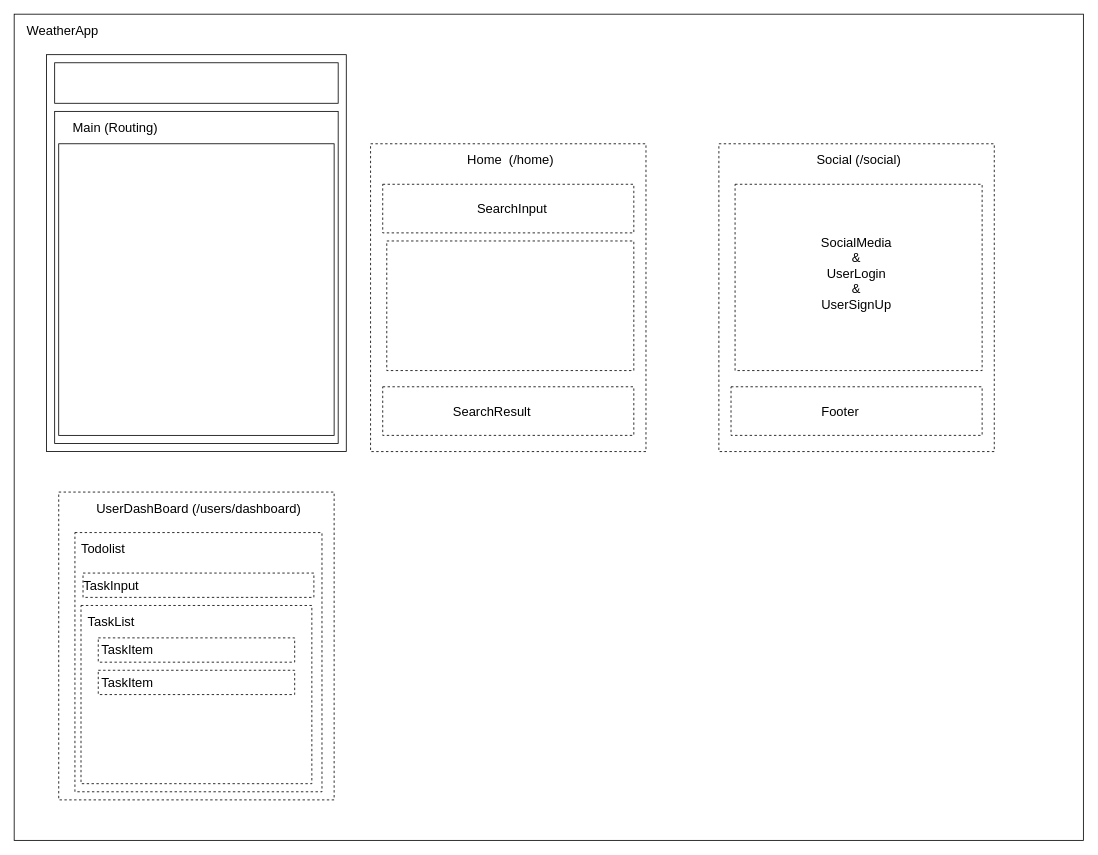
This 1098x855 diagram has some shape labels left out. The centre of each missing label's shape, as x and y in pixels:
"Header" goes at (196,82).
"Home & Social" goes at (196,289).
"Suggestions" goes at (510,305).
